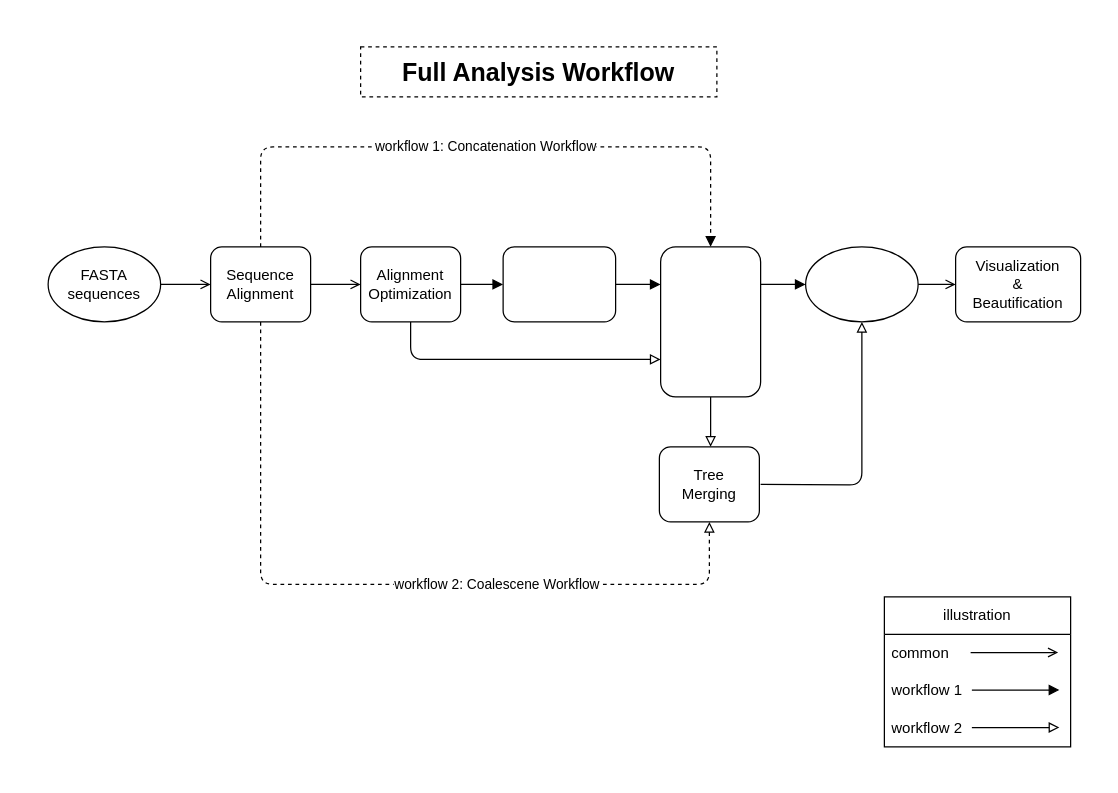
Image size: 1118x793. Some labels were removed from this diagram. The shapes that lost their labels are listed below. From the top down, each one's box as (x1, y1, x2, y2) in pixels, then its label:
(502, 246, 616, 322): Sequence Concatenation
(804, 246, 918, 322): Newick tree
(659, 246, 761, 397): Tree Construction
